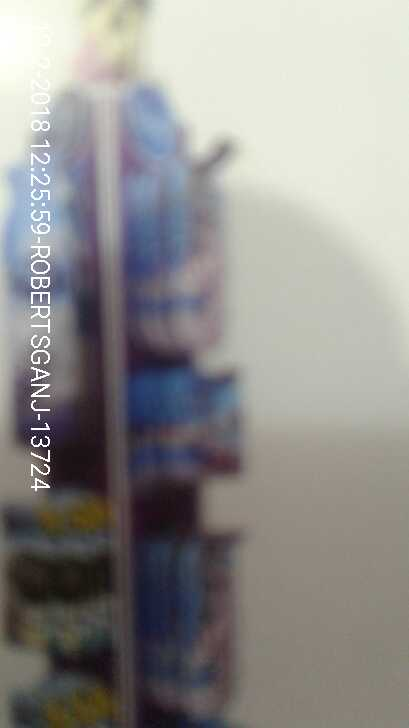reject: (276, 213, 336, 290)
